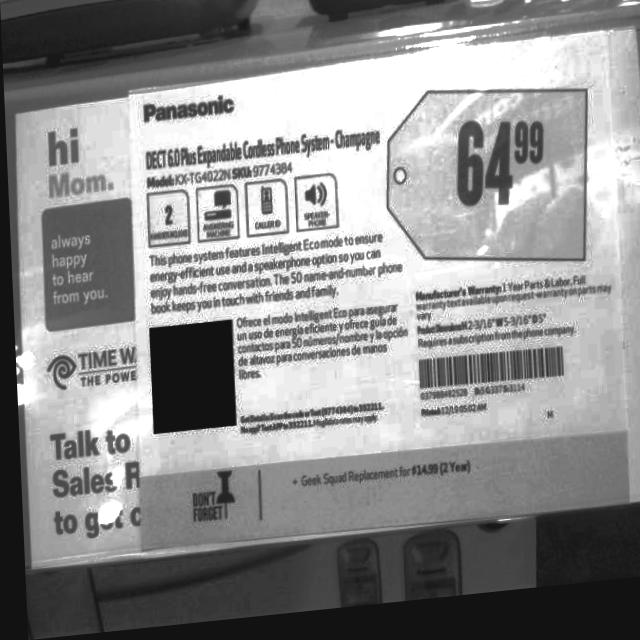qr_code: (146, 324, 233, 437)
